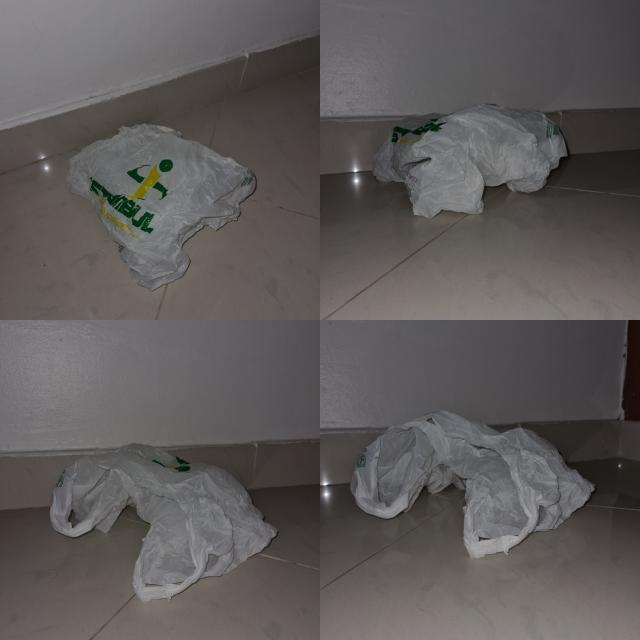Single-layer Plastic: (50, 444, 278, 602), (350, 411, 594, 558), (66, 124, 256, 291), (372, 104, 568, 218)
